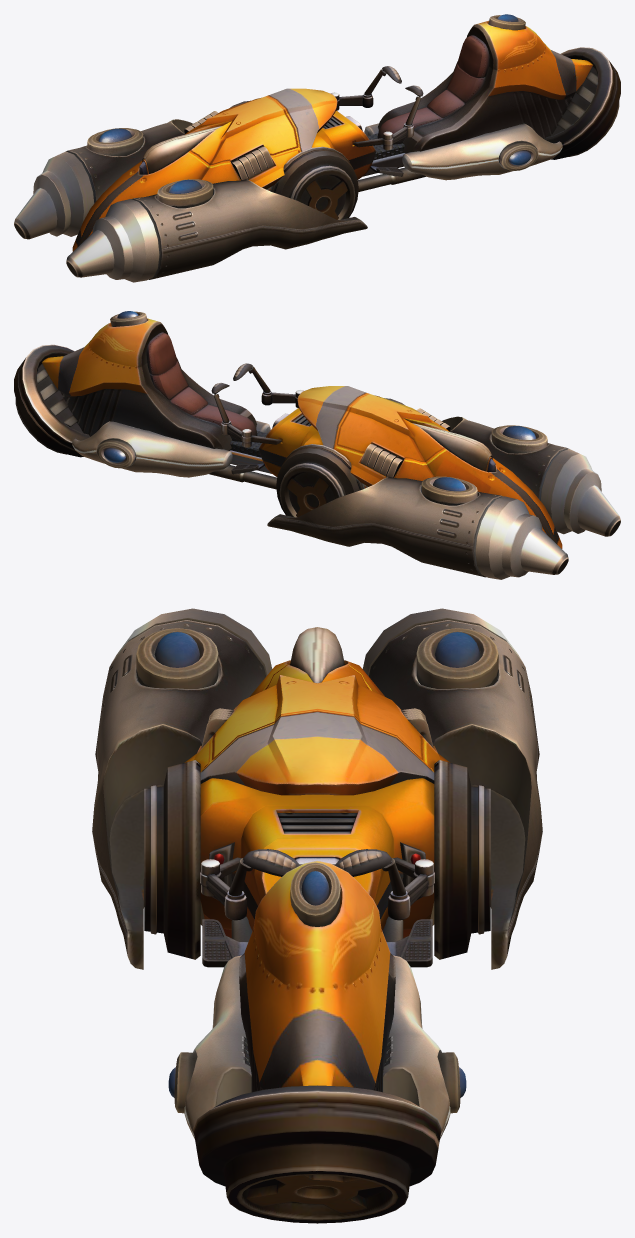
The model's file is hovercraft_exported.glb.
3 views of the same model, one above another, from view 1: azimuth 30°, elevation 25°; view 2: azimuth 150°, elevation 25°; view 3: azimuth 270°, elevation 25° (orthographic). The views are drawn at different scales.
Visible parts, largest first — view 1: Hover_vehicle; view 2: Hover_vehicle; view 3: Hover_vehicle.
Part boxes in pixels (x1,y1,x2,y2): Hover_vehicle: (14, 14, 620, 282); Hover_vehicle: (14, 311, 620, 579); Hover_vehicle: (92, 608, 542, 1223).
Bounding box in the file's own units: 4.68 × 1.18 × 1.6.
1 material, 1 textured.
